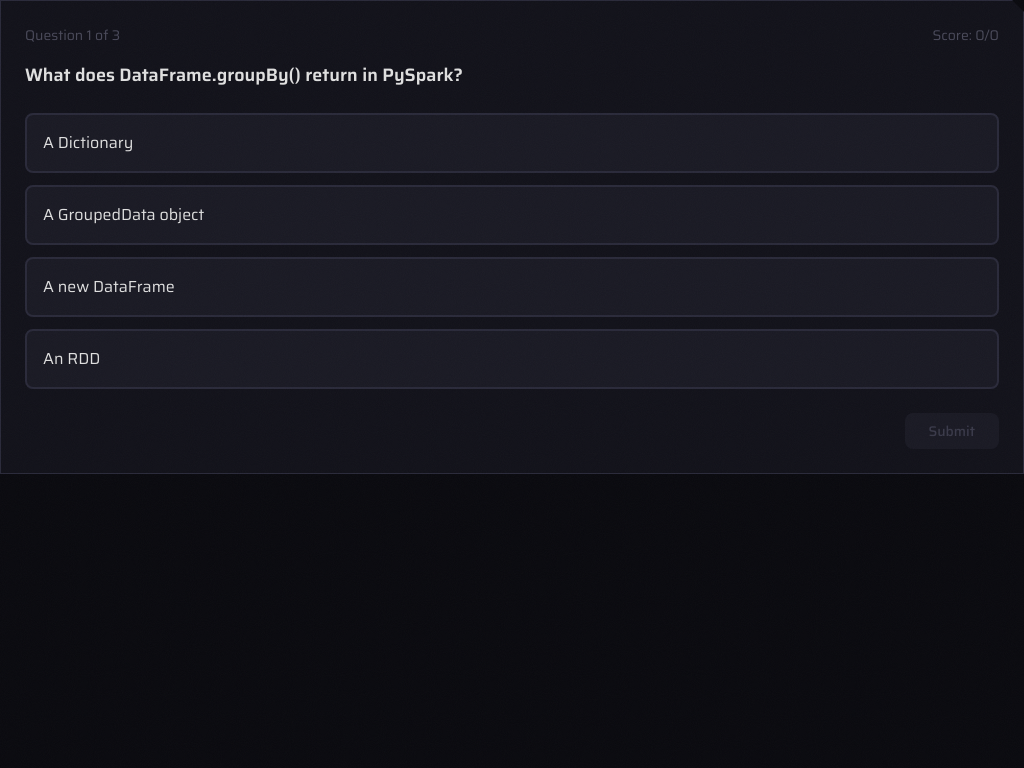
Scenario: MissionQuiz › Quiz Flow › proceeds to next question when Next is clicked
Note: Answer first question
What coordinates should you click on to do the following:
click the button "A GroupedData object"
I would click on:
 (124, 214)
Its box is [25,185,999,245].
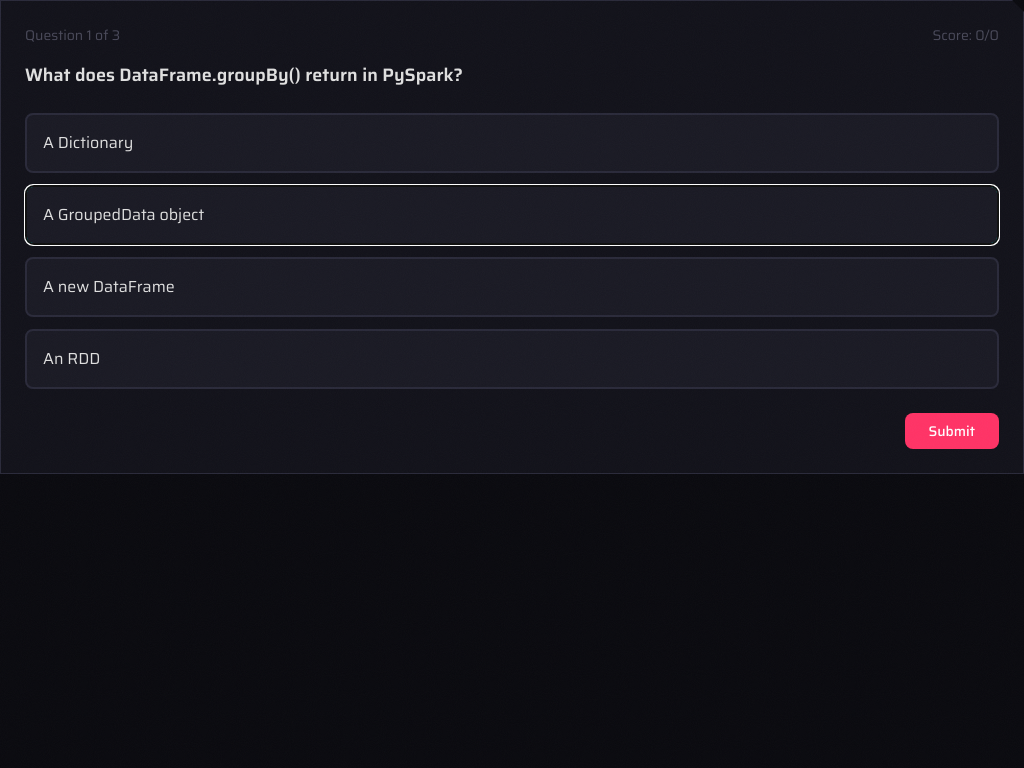
What coordinates should you click on to do the following:
click the button "Submit"
I would click on:
 (952, 431)
Its box is [904,413,999,449].
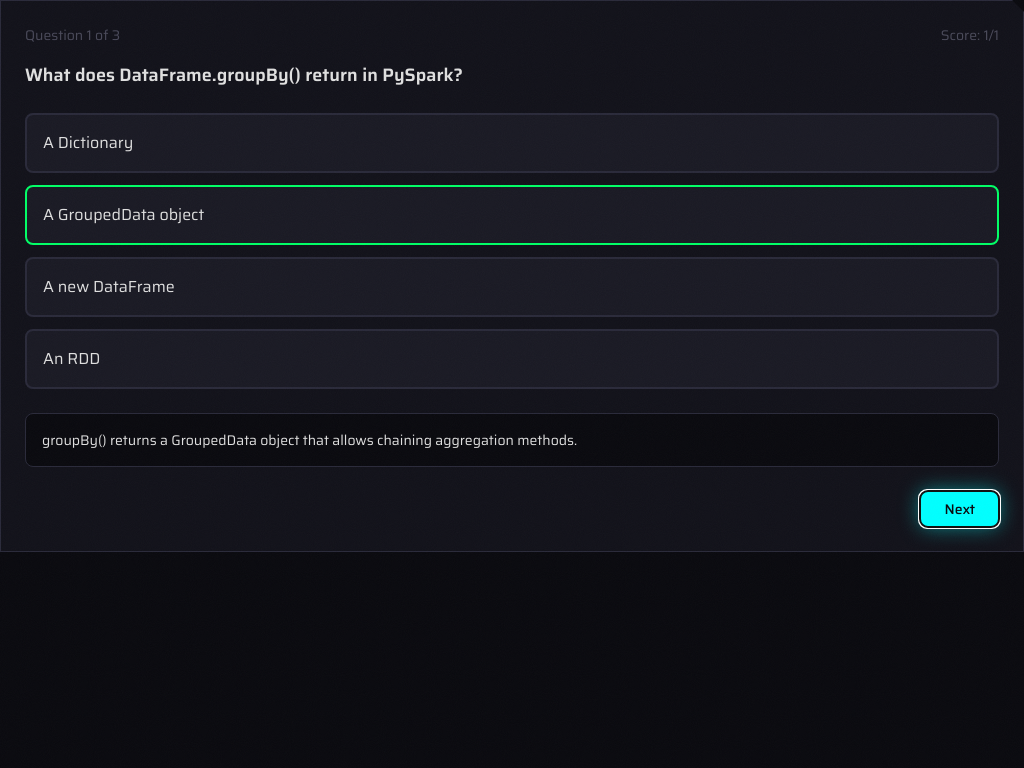
Note: Click Next
What coordinates should you click on to do the following:
click the button "Next"
I would click on:
 (960, 509)
Its box is [920,491,999,527].
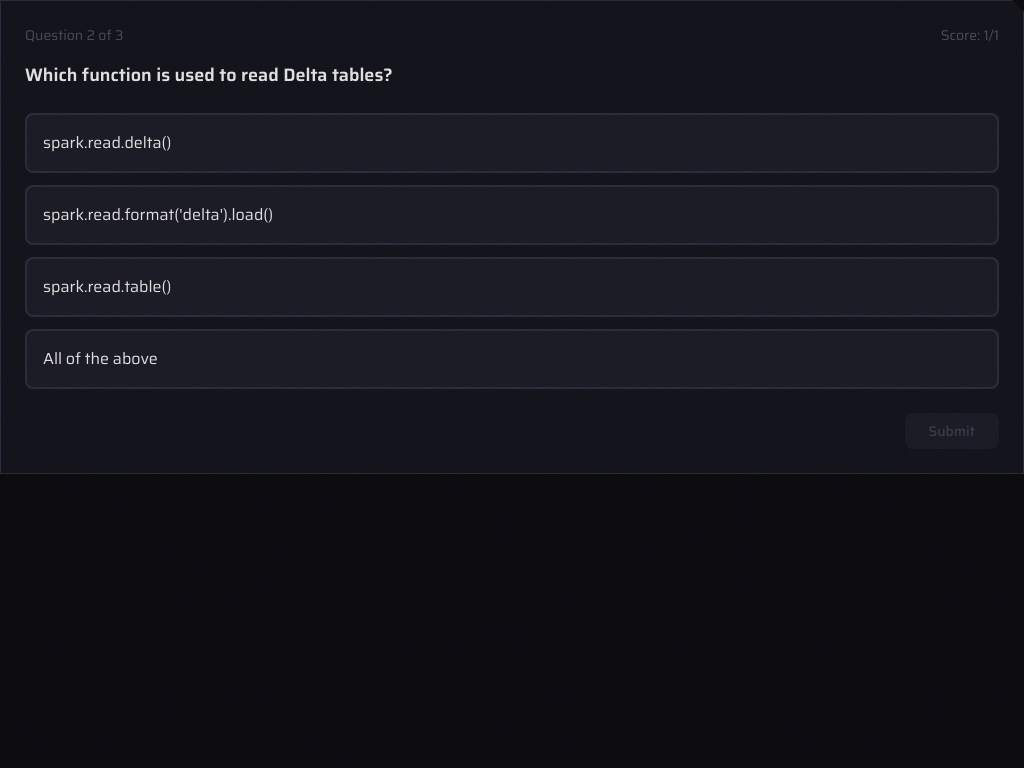
Check: the heading "Which function is used to read Delta tables?" is shown, box [25,61,393,89]
